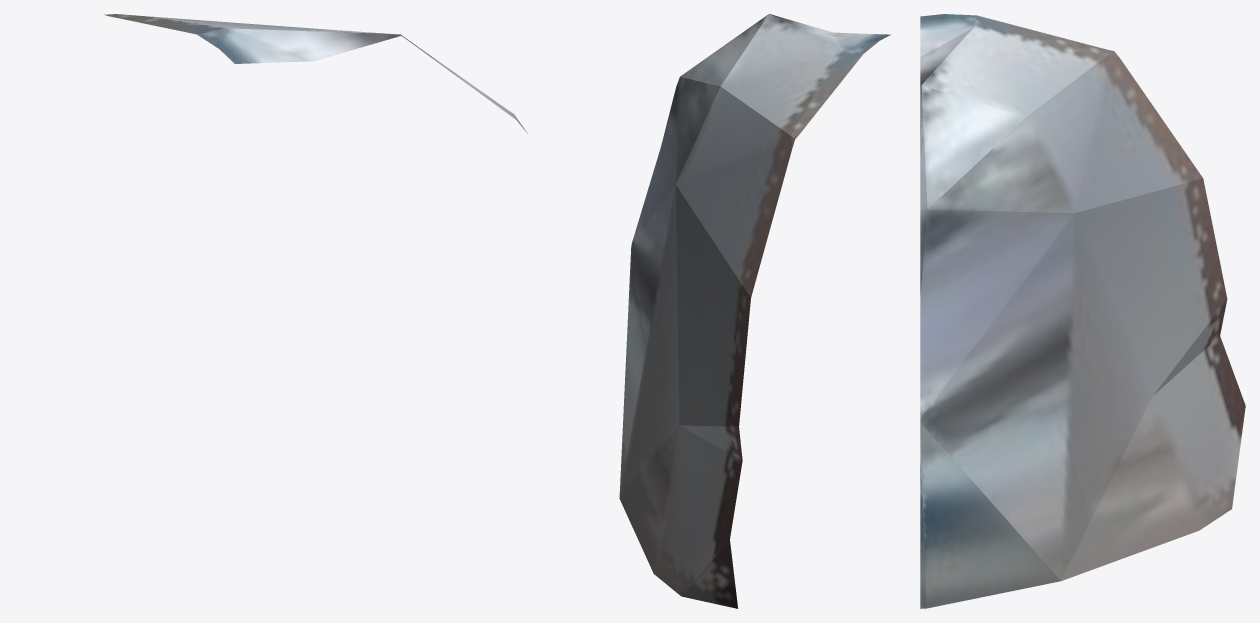
3 views of the same model, side by side, from view 1: azimuth 30°, elevation 25°; view 2: azimuth 150°, elevation 25°; view 3: azimuth 270°, elevation 25° (orthographic). The views are drawn at different scales.
Size of the model in its own units: 0.3029 by 0.5166 by 0.3257.
Materials: 1 (1 with a texture image).
